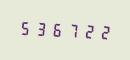five: (17, 17, 31, 38)
seven: (63, 19, 77, 40)
six: (48, 19, 62, 39)
three: (32, 18, 46, 39)
two: (78, 20, 92, 41), (93, 21, 107, 42)
